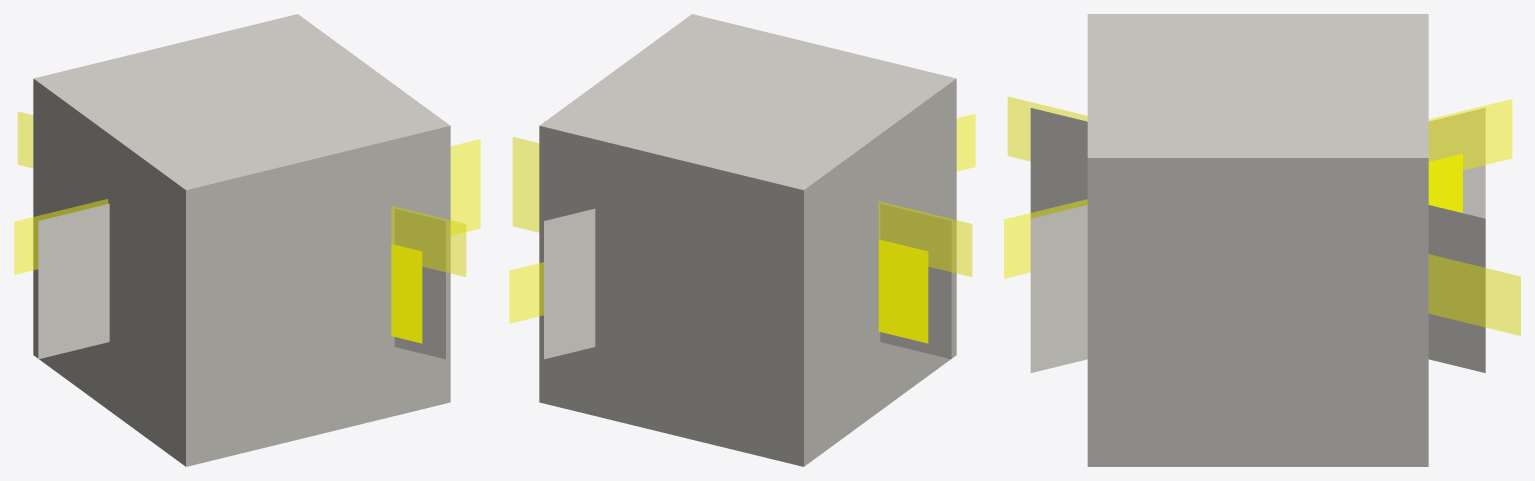
3 views of the same model, side by side, from view 1: azimuth 30°, elevation 25°; view 2: azimuth 150°, elevation 25°; view 3: azimuth 270°, elevation 25° (orthographic). The views are drawn at different scales.
Visible parts, largest first — view 1: TriQR_Body, TriQR_FaceSurface_face-4, TriQR_Label (×4), TriQR_FaceSurface_face-2, TriQR_QR_face-2; view 2: TriQR_Body, TriQR_Label (×4), TriQR_FaceSurface_face-6, TriQR_FaceSurface_face-4, TriQR_QR_face-4; view 3: TriQR_Body, TriQR_Label (×4), TriQR_FaceSurface_face-6, TriQR_FaceSurface_face-2, TriQR_FaceSurface_face-3, TriQR_FaceSurface_face-5, TriQR_QR_face-5.
Boxes of the visible parts, box(x1,y1,x2,y2) form: TriQR_Body: box(33, 14, 450, 466); TriQR_FaceSurface_face-4: box(38, 203, 109, 359); TriQR_Label (×4): box(14, 111, 480, 276); TriQR_FaceSurface_face-2: box(394, 209, 445, 359); TriQR_QR_face-2: box(391, 244, 422, 343); TriQR_Body: box(539, 14, 956, 466); TriQR_Label (×4): box(509, 114, 975, 323); TriQR_FaceSurface_face-6: box(544, 208, 595, 359); TriQR_FaceSurface_face-4: box(880, 204, 951, 359); TriQR_QR_face-4: box(878, 239, 928, 343); TriQR_Body: box(1087, 14, 1428, 466); TriQR_Label (×4): box(1004, 96, 1520, 335); TriQR_FaceSurface_face-6: box(1428, 205, 1485, 372); TriQR_FaceSurface_face-2: box(1030, 205, 1087, 372); TriQR_FaceSurface_face-3: box(1030, 108, 1087, 218); TriQR_FaceSurface_face-5: box(1428, 108, 1485, 218); TriQR_QR_face-5: box(1428, 153, 1462, 212).
Size of the model in its own units: 4.2 by 2.4 by 3.64.
17 materials, 10 textured.
